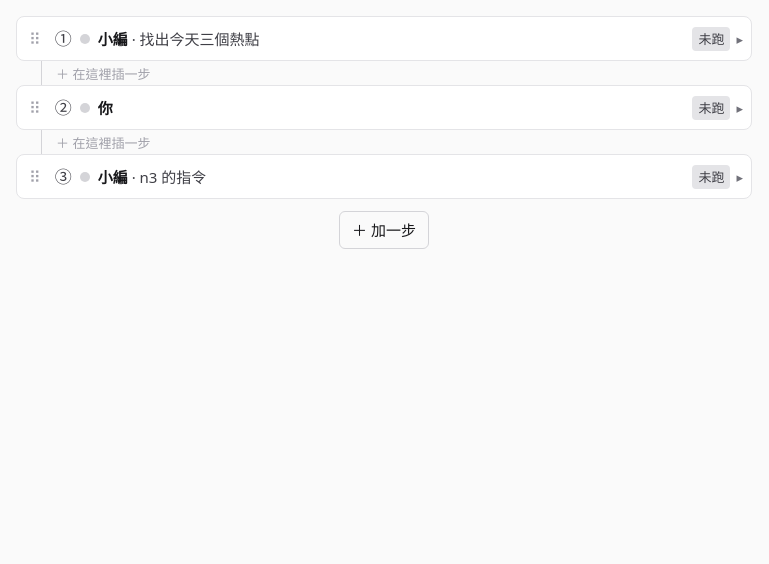
Test: 一步一行（閱讀模式） › 工程師模式開了才有「工程師選項」：做完自己檢查、產出、模型等收在裡面
Click the button with test id "station-n1-row" at point(113, 38), box [51, 23, 686, 54]
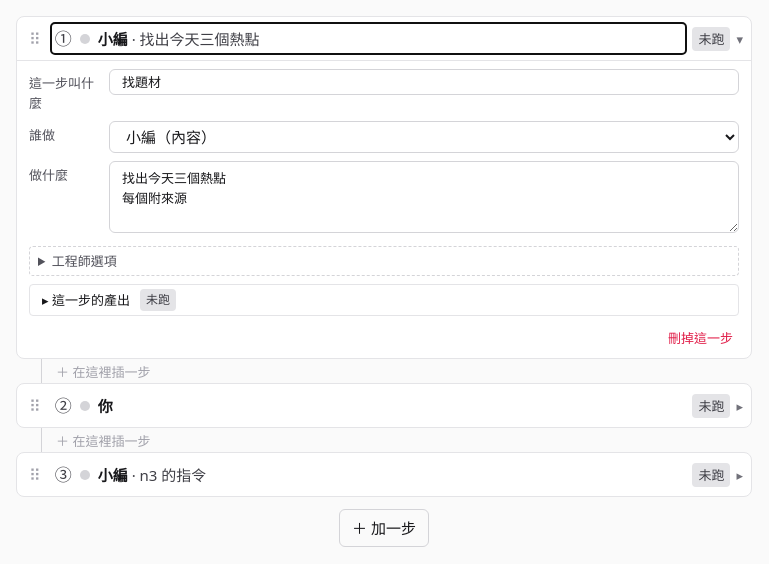
expect the element with test id "station-n1-engineer" reads "工程師選項": met, box [52, 252, 117, 270]
